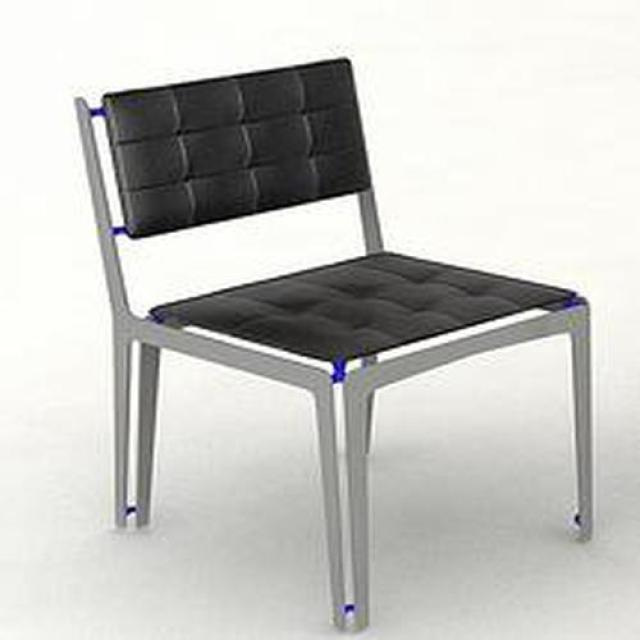chair: (76, 59, 593, 634)
